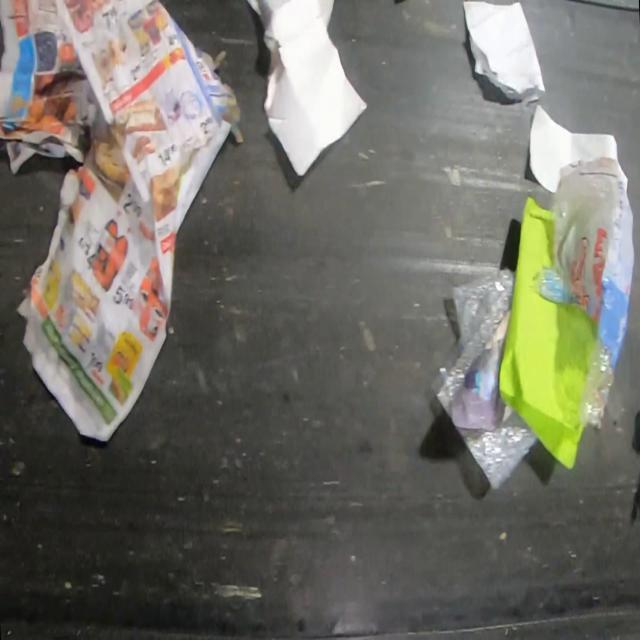soft_plastic: (525, 157, 637, 440), (430, 266, 540, 492)
